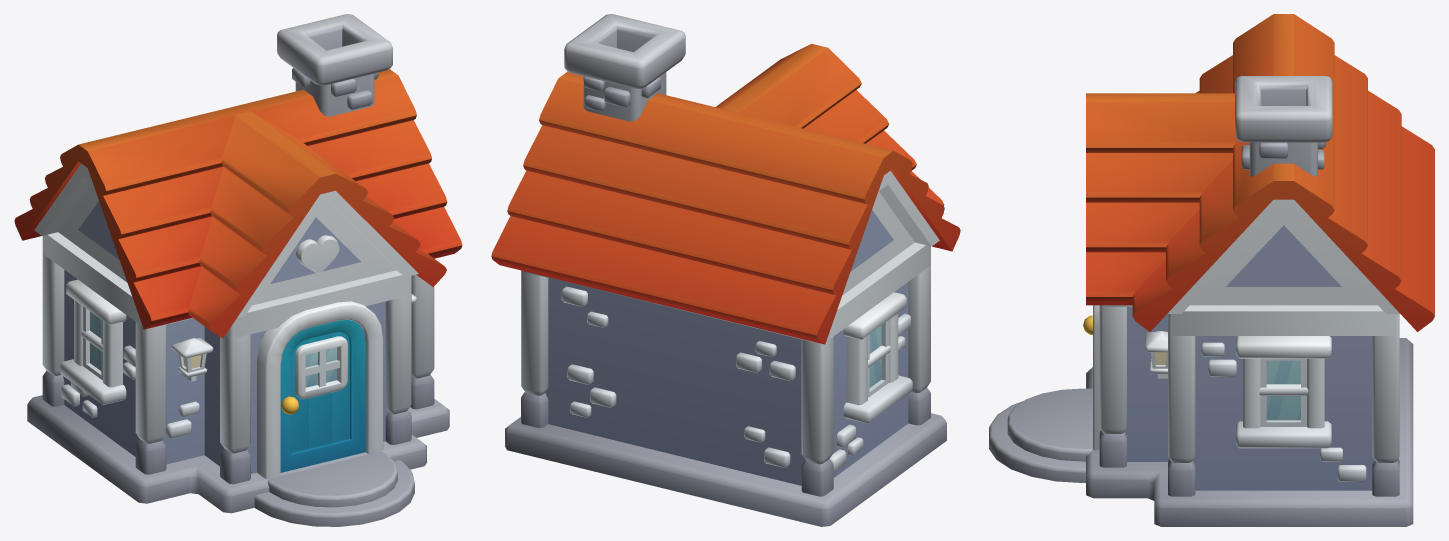
The model's file is hero.glb.
3 views of the same model, side by side, from view 1: azimuth 30°, elevation 25°; view 2: azimuth 150°, elevation 25°; view 3: azimuth 270°, elevation 25° (orthographic). The views are drawn at different scales.
Visible parts, largest first — view 1: house; view 2: house; view 3: house.
Part boxes in pixels (box(x1,y1,x2,y2)): house: box(14, 14, 462, 526); house: box(491, 14, 960, 526); house: box(989, 14, 1434, 526).
Bounding box in the file's own units: 5.9 × 6.5 × 6.54.
Materials: 1 (1 with a texture image).
